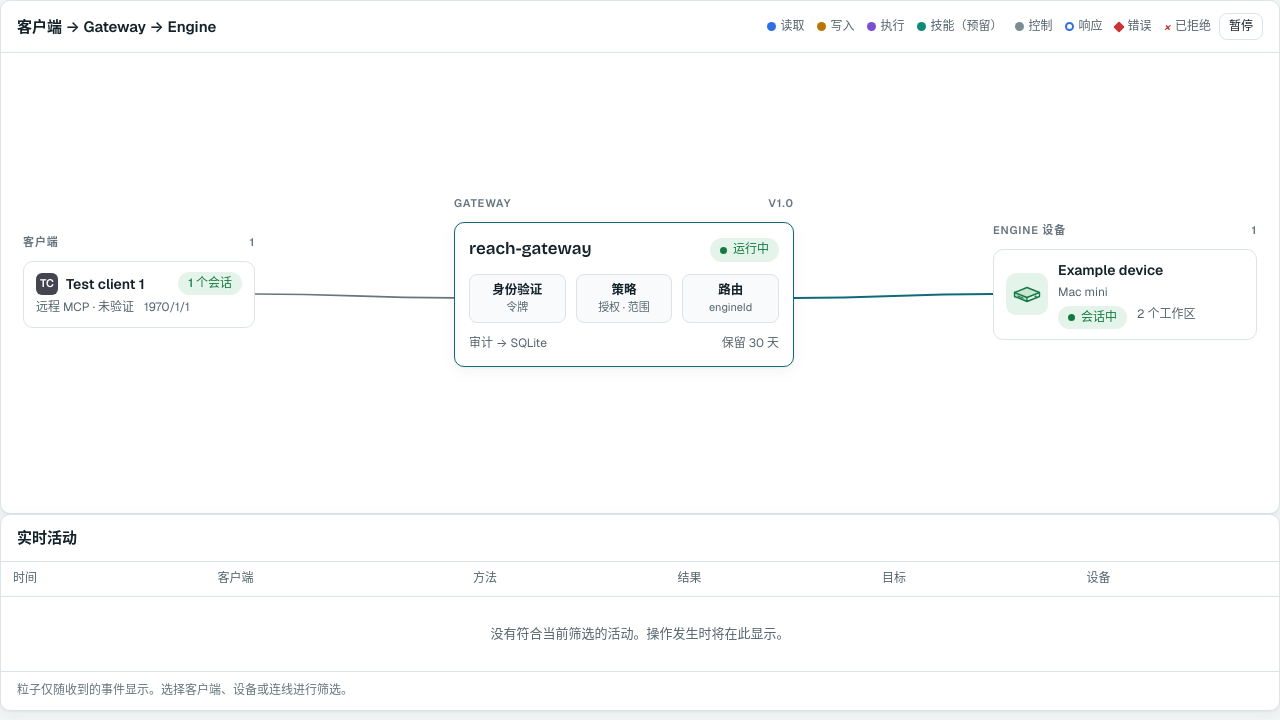
it: renders Chinese topology lanes, stages and linked drawers
Expected: the heading "客户端 → Gateway → Engine" is shown, [17,16,216,38]
Expected: the text "身份验证" is shown, [492,281,542,298]
Click the text "Test client 1" at (105, 284), box [66,274,145,294]
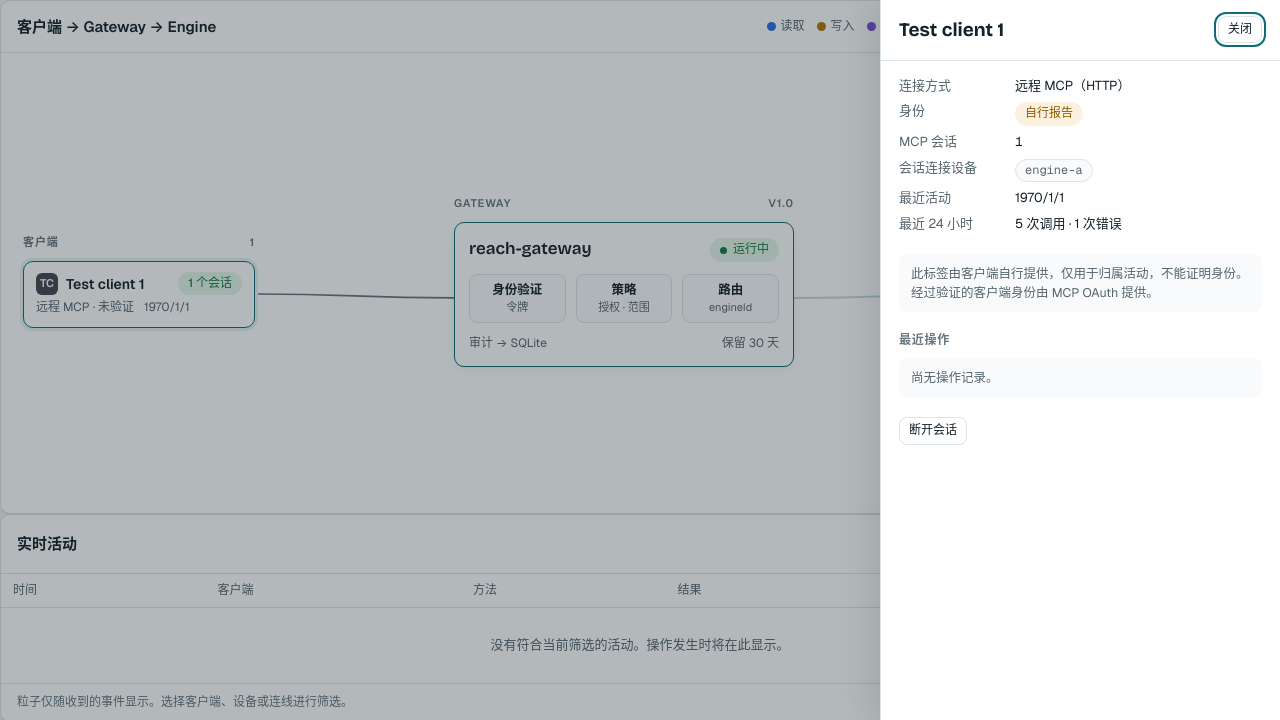
Expected: the dialog named "客户端详情" is shown, [880,0,1279,719]
Expected: the text "5 次调用 · 1 次错误" is shown, [1015,215,1122,232]
